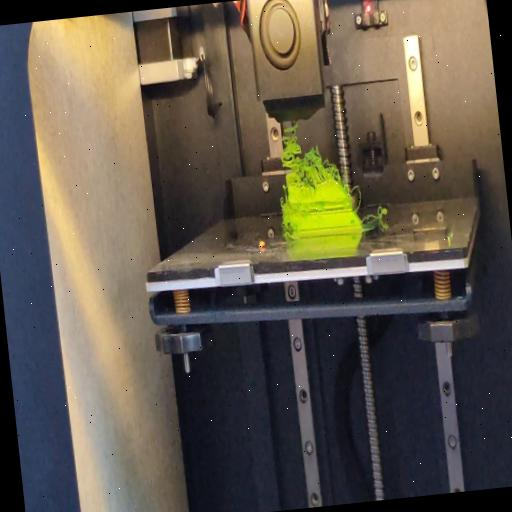spaghetti: (279, 120, 346, 188), (360, 205, 390, 225), (348, 181, 366, 214), (284, 228, 294, 244)
